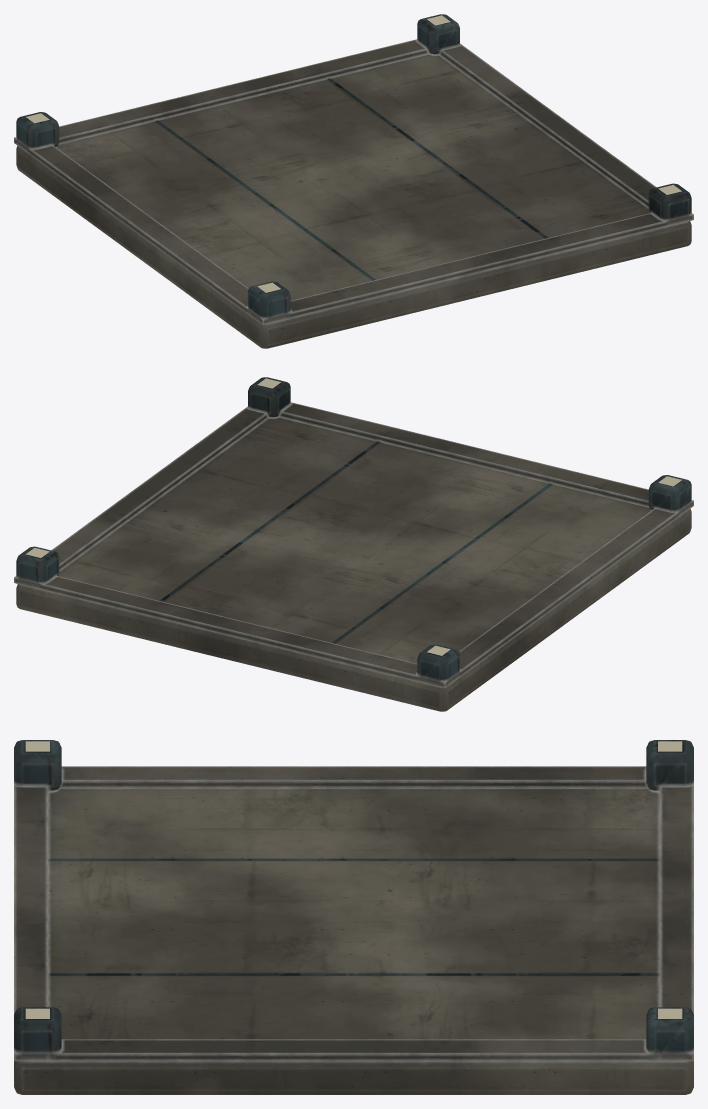
File: hull_starter.glb
3 renders of one model, top to bottom at view 1: azimuth 30°, elevation 25°; view 2: azimuth 150°, elevation 25°; view 3: azimuth 270°, elevation 25°, orthographic. The views are drawn at different scales.
Parts seen in each view (by area): view 1: te_hull_starter; view 2: te_hull_starter; view 3: te_hull_starter.
Part boxes in pixels (<box>): te_hull_starter: <box>14,14,693,348</box>; te_hull_starter: <box>14,377,693,711</box>; te_hull_starter: <box>14,740,693,1094</box>.
Bounding box in the file's own units: 1 × 0.1206 × 1.
1 material, 1 textured.
